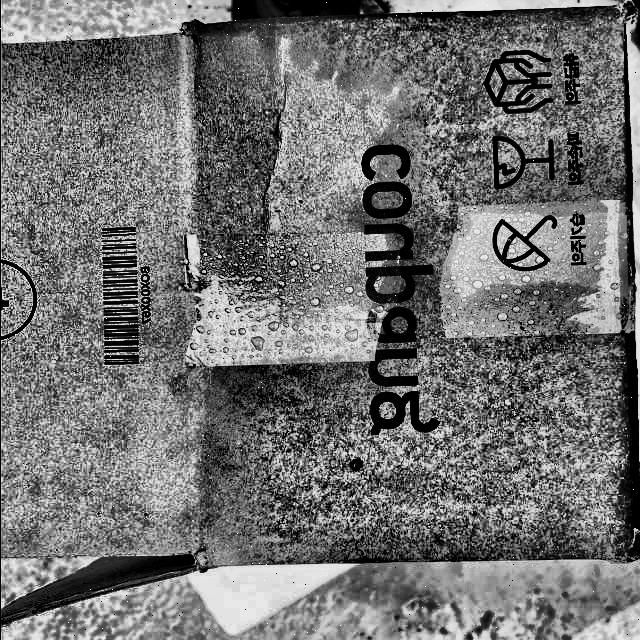box: (0, 5, 637, 635)
wet: (191, 15, 631, 569)
